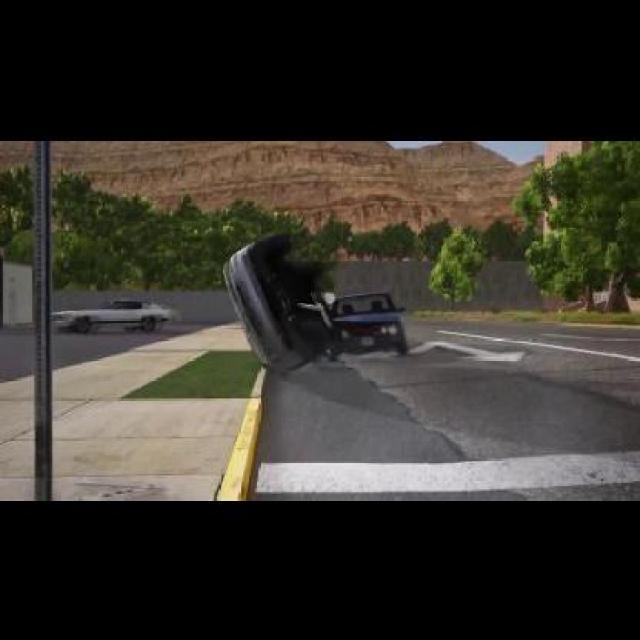accident: (219, 228, 343, 372)
